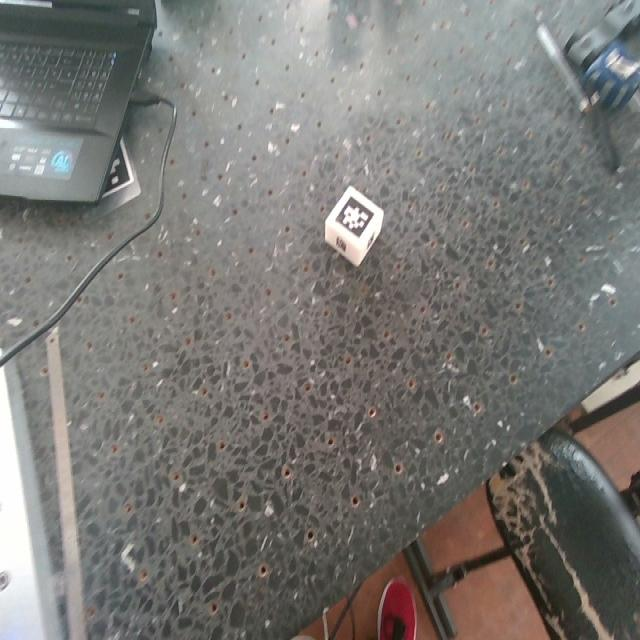Cube: (324, 188, 386, 268)
